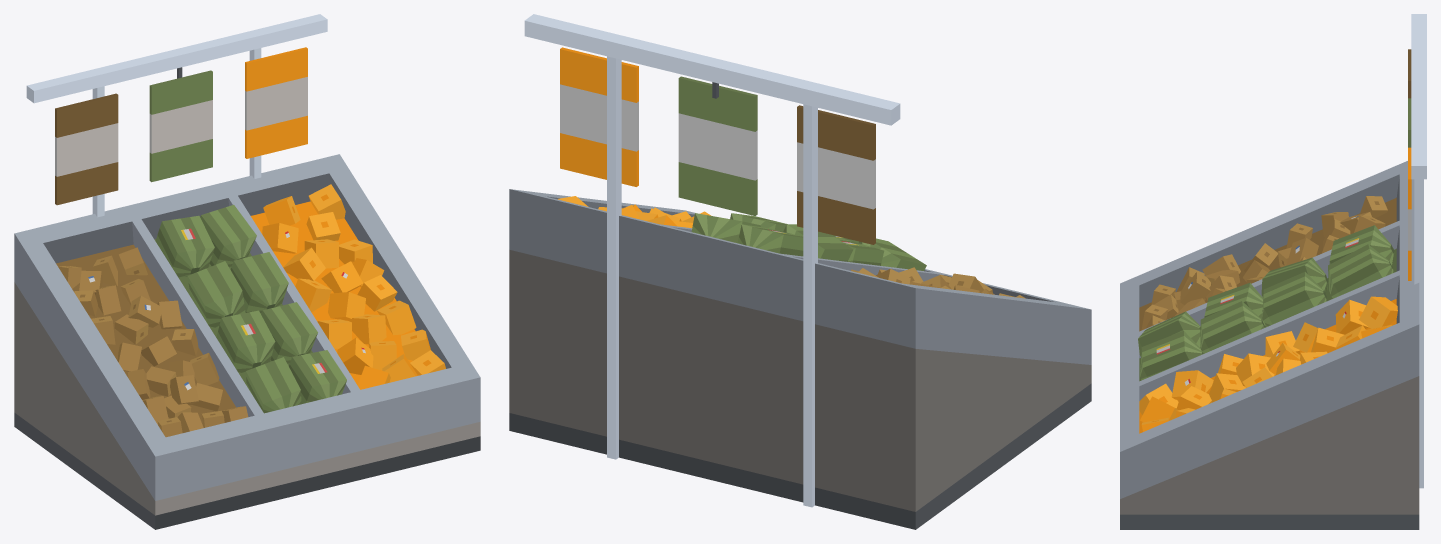
The model's file is ProduceSection2.glb.
3 renders of one model, left to right at view 1: azimuth 30°, elevation 25°; view 2: azimuth 150°, elevation 25°; view 3: azimuth 270°, elevation 25°, orthographic. The views are drawn at different scales.
Parts seen in each view (by area): view 1: SI_Prop_ProduceSection_02; view 2: SI_Prop_ProduceSection_02; view 3: SI_Prop_ProduceSection_02.
Boxes of the visible parts, left/top/right/bottom form: SI_Prop_ProduceSection_02: left=14, top=14, right=480, bottom=529; SI_Prop_ProduceSection_02: left=509, top=14, right=1091, bottom=529; SI_Prop_ProduceSection_02: left=1120, top=14, right=1426, bottom=529.
Bounding box in the file's own units: 0.04 × 0.0393 × 0.0308.
Materials: 1 (1 with a texture image).
